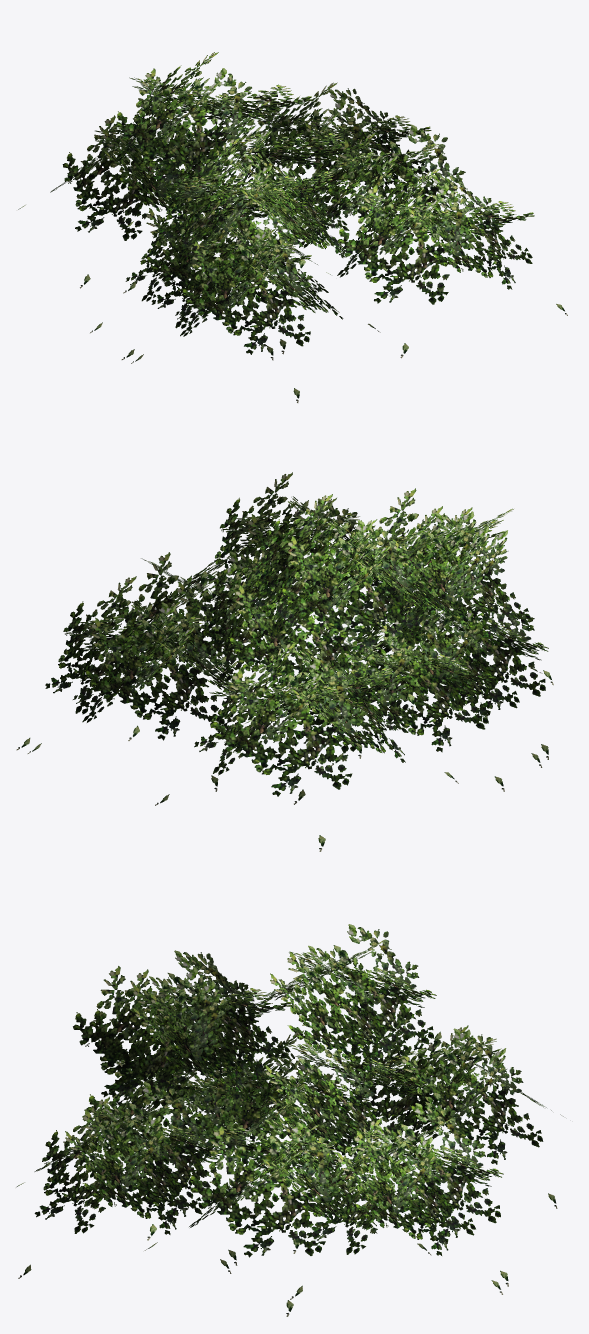
The model's file is underbrush-2.glb.
3 views of the same model, one above another, from view 1: azimuth 30°, elevation 25°; view 2: azimuth 150°, elevation 25°; view 3: azimuth 270°, elevation 25° (orthographic). The views are drawn at different scales.
Visible parts, largest first — view 1: underbrush-2; view 2: underbrush-2; view 3: underbrush-2.
Boxes of the visible parts, x1,y1,x2,y2 form: underbrush-2: (18,52,567,402); underbrush-2: (16,472,553,851); underbrush-2: (16,924,563,1316).
Bounding box in the file's own units: 8.21 × 4.5 × 8.83.
Materials: 1 (1 with a texture image).
